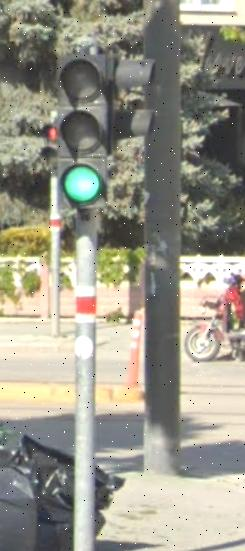greenlight: (57, 53, 112, 215)
